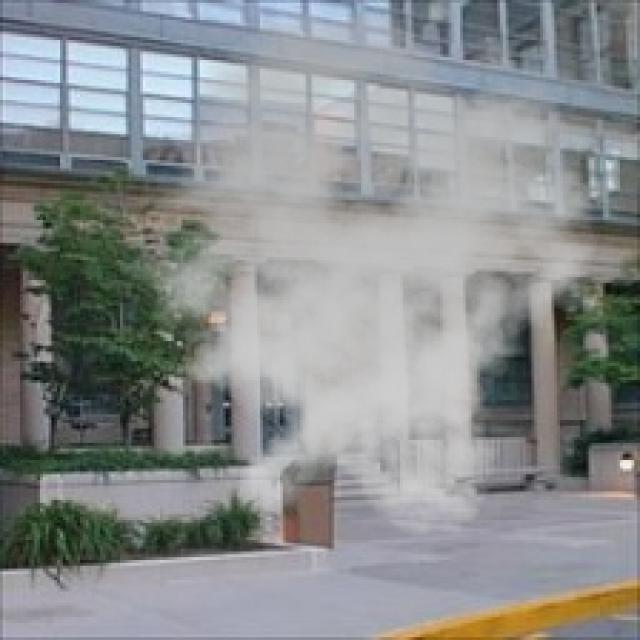smoke: (94, 11, 626, 540)
